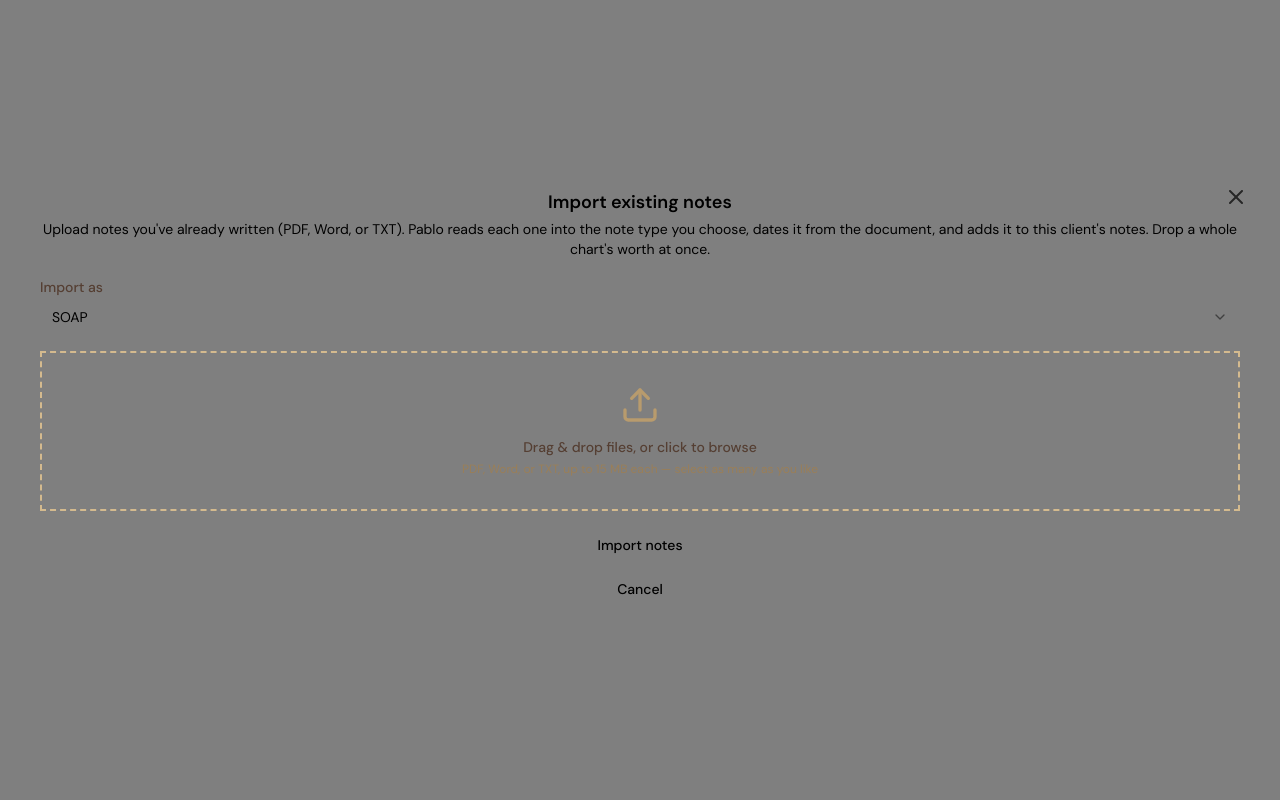
Test: ImportNotesDialog › offers the visit-note types a model can read a note into
Click the dropdown named "Import as" at {"x": 70, "y": 317}, box [40, 299, 1240, 335]
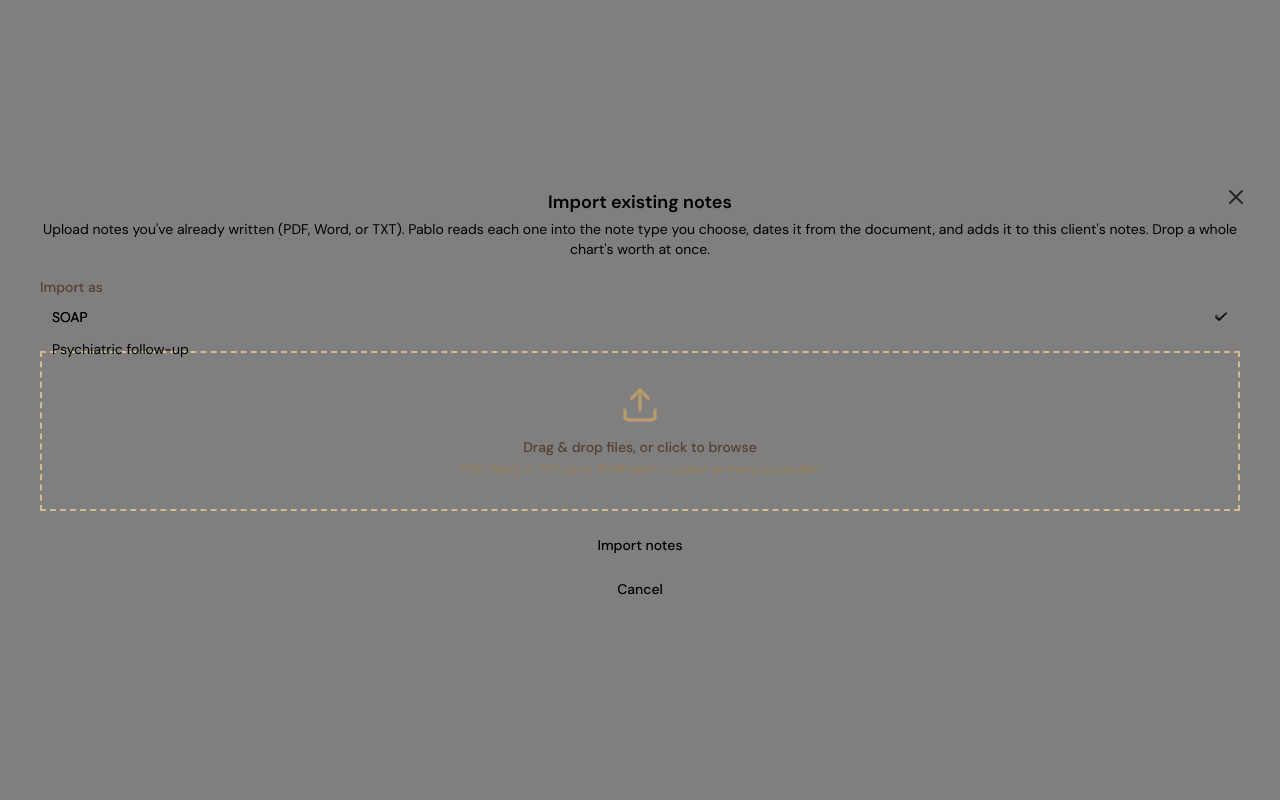
expect the options read "SOAP", "Psychiatric follow-up", in this order: met, box [52, 308, 1229, 326]; [52, 340, 189, 358]
